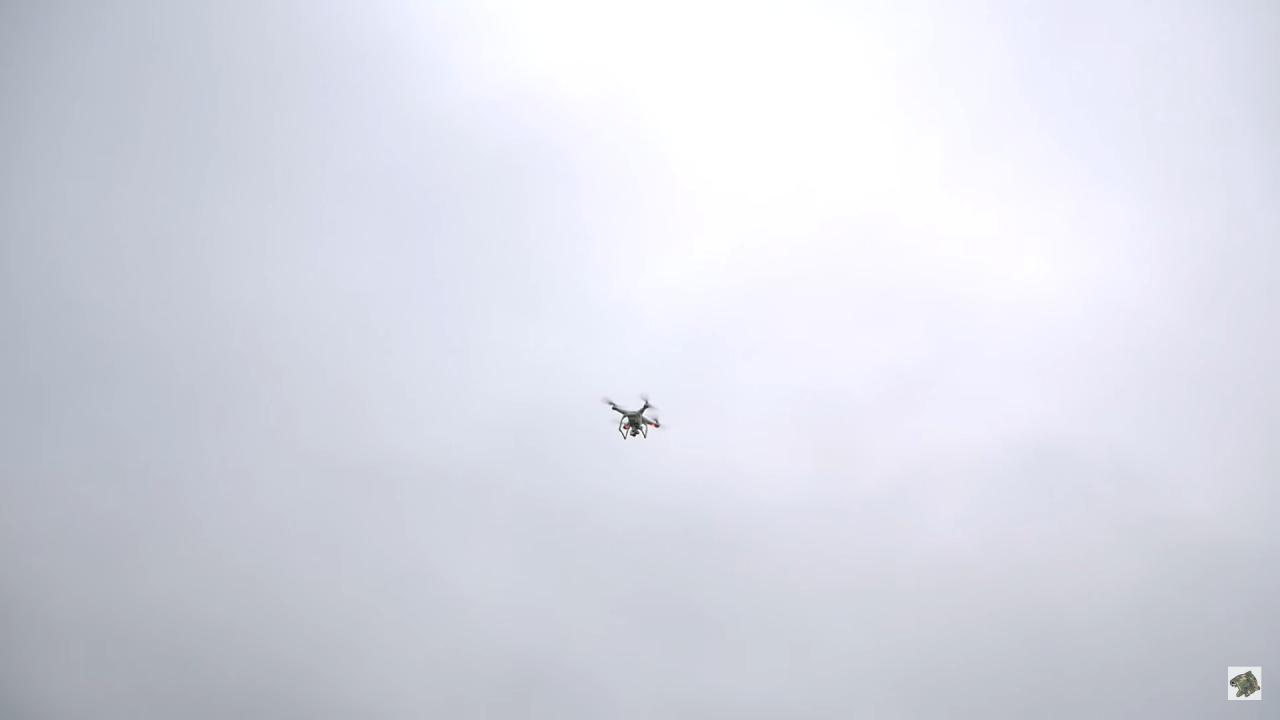Drone: (594, 385, 674, 451)
